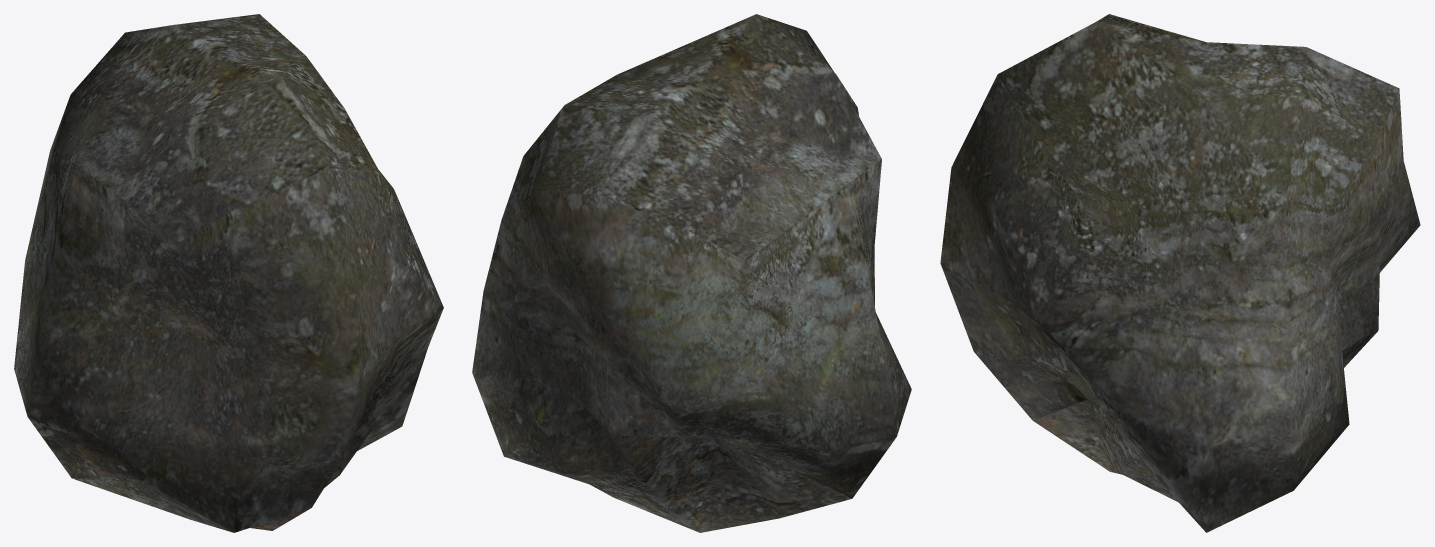
File: rock2.fbx
The picture shows the model from 3 angles, left to right: view 1: azimuth 30°, elevation 25°; view 2: azimuth 150°, elevation 25°; view 3: azimuth 270°, elevation 25°; orthographic projection. The views are drawn at different scales.
Parts seen in each view (by area): view 1: Cube.038; view 2: Cube.038; view 3: Cube.038.
Part boxes in pixels (x1,y1,x2,y2): Cube.038: (14, 14, 443, 532); Cube.038: (472, 14, 911, 532); Cube.038: (940, 14, 1420, 532).
Bounding box in the file's own units: 177 × 206 × 192.
